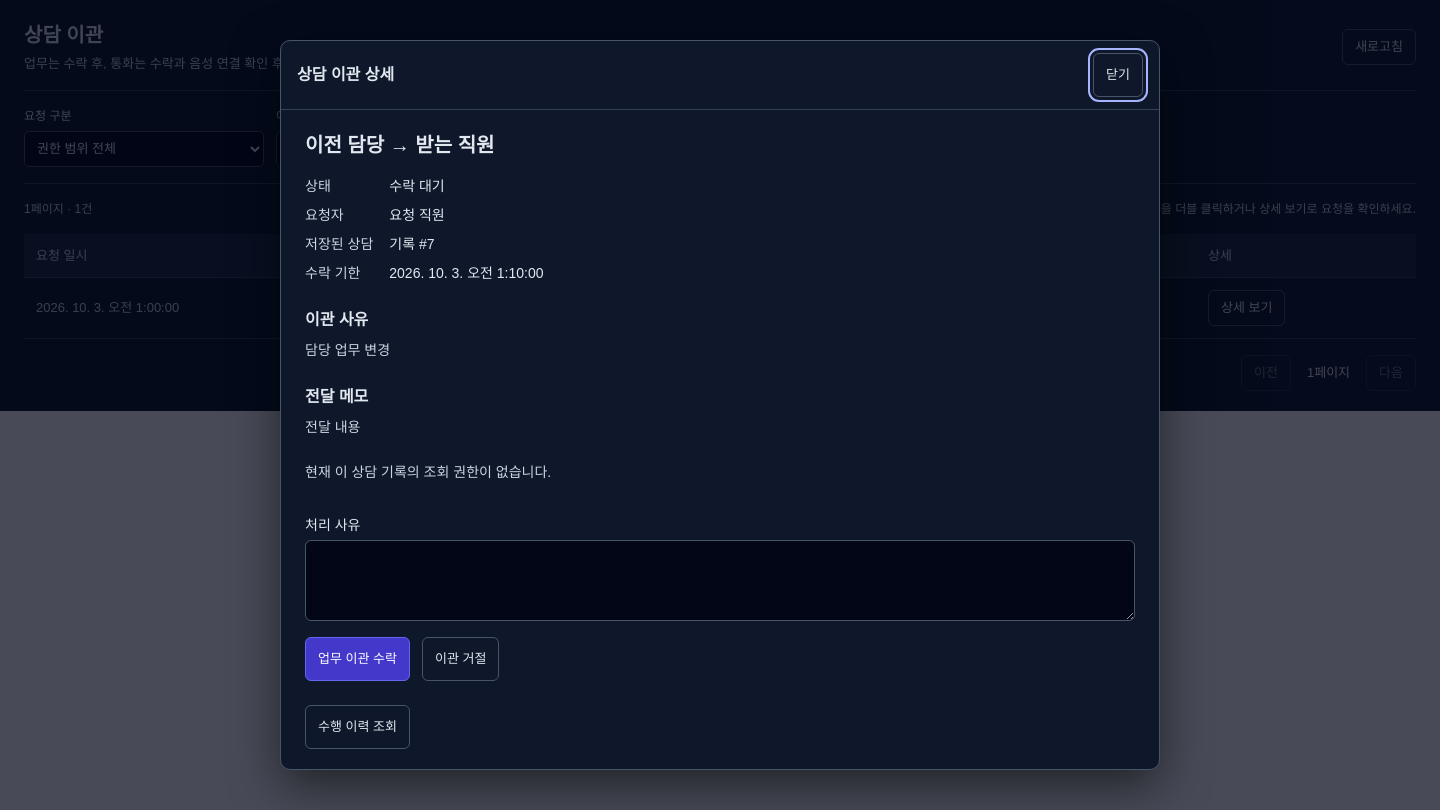
it: renders HTTP-success FAILED as failure, retaining the reason for copying
Type "지워지면 안 되는 사유" into the text box labelled "처리 사유" at (720, 580), box [305,540,1135,621]
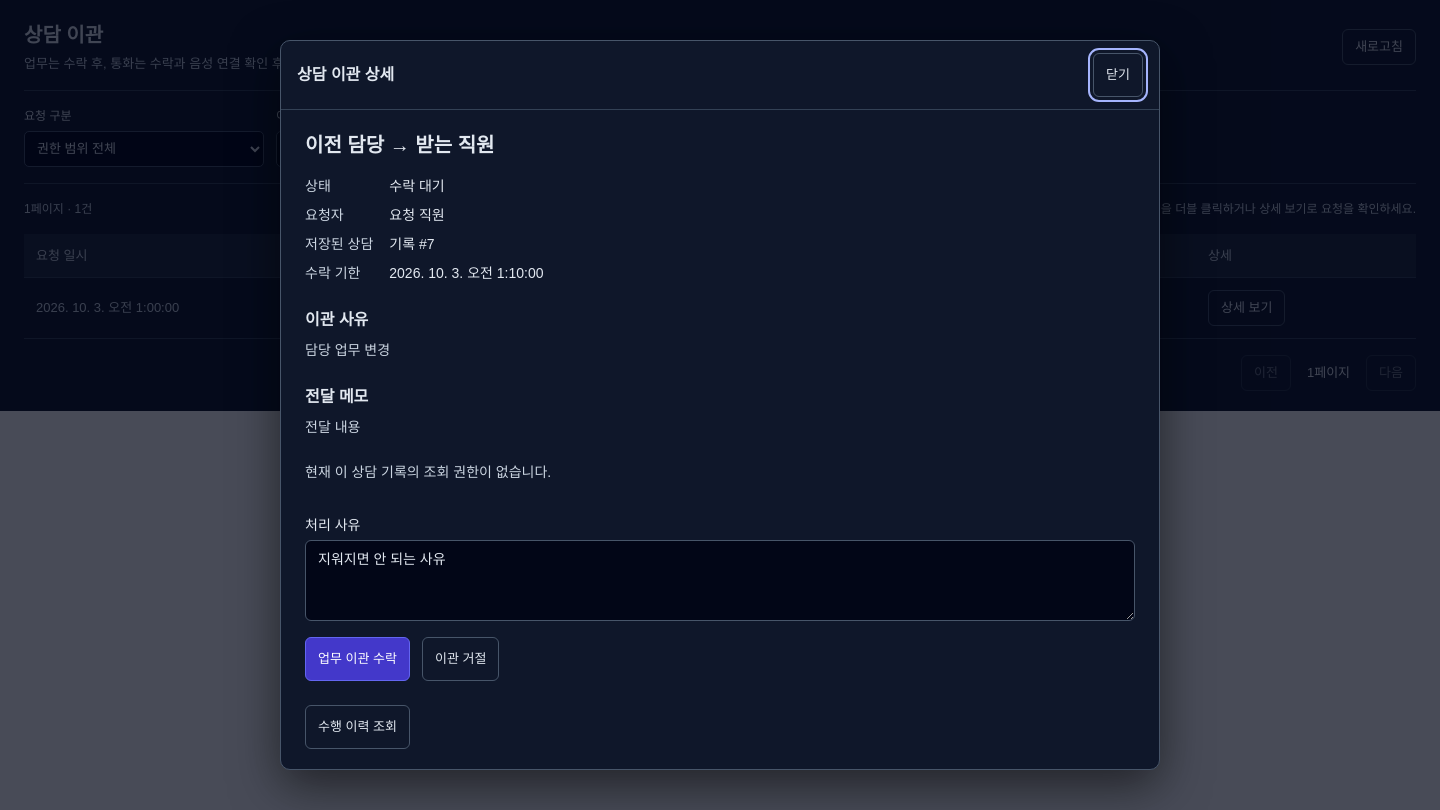
Click the button "업무 이관 수락" at (358, 659), box [305,637,410,681]
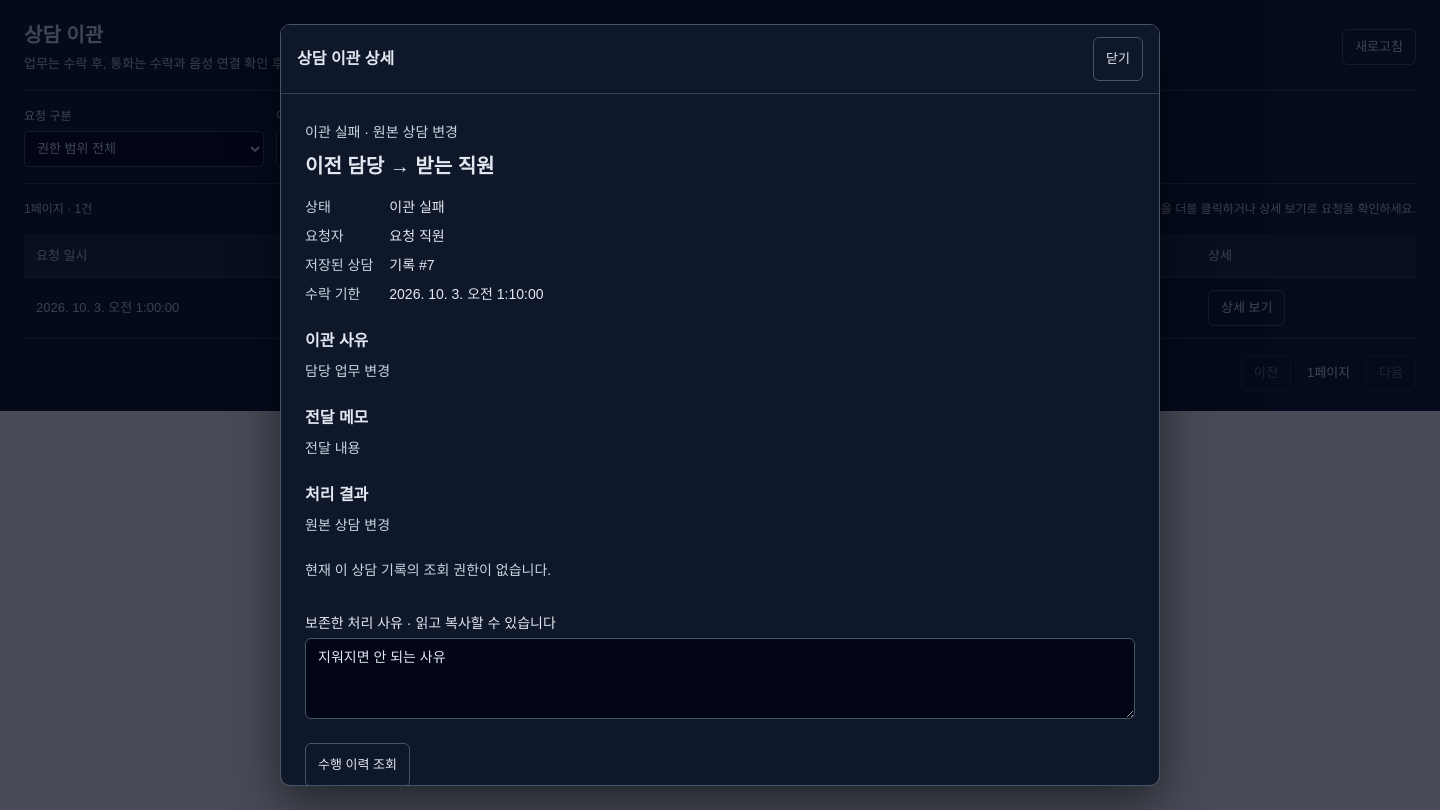
Now the text box labelled "보존한 처리 사유 · 읽고 복사할 수 있습니다" holds "지워지면 안 되는 사유", box [305,638,1135,719]
Now the text "이관 실패 · 원본 상담 변경" is shown, box [305,124,458,140]
Now the button "업무 이관 수락" is gone
